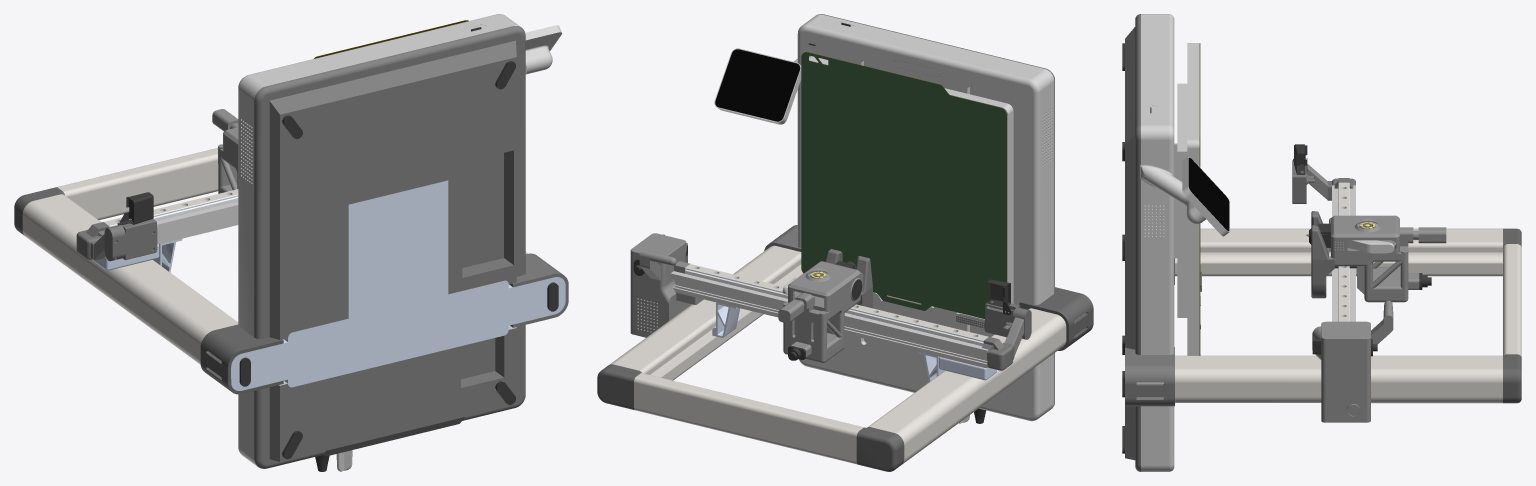
Rendered from printer3.glb.
3 renders of one model, left to right at view 1: azimuth 30°, elevation 25°; view 2: azimuth 150°, elevation 25°; view 3: azimuth 270°, elevation 25°, orthographic. The views are drawn at different scales.
Visible parts, largest first — view 1: mesh_0, mesh_5, mesh_7, mesh_6, mesh_12; view 2: mesh_0, mesh_5, mesh_6, mesh_7, mesh_12; view 3: mesh_0, mesh_5, mesh_6, mesh_7.
Part boxes in pixels (bbox=[...]): mesh_0: bbox=[76, 14, 568, 471]; mesh_5: bbox=[22, 148, 527, 364]; mesh_7: bbox=[14, 187, 283, 394]; mesh_6: bbox=[94, 109, 238, 260]; mesh_12: bbox=[104, 192, 238, 227]; mesh_0: bbox=[633, 14, 1054, 423]; mesh_5: bbox=[609, 245, 1084, 464]; mesh_6: bbox=[630, 233, 1023, 363]; mesh_7: bbox=[597, 287, 1093, 471]; mesh_12: bbox=[685, 267, 983, 345]; mesh_0: bbox=[1122, 14, 1431, 471]; mesh_5: bbox=[1136, 182, 1521, 403]; mesh_6: bbox=[1306, 164, 1446, 422]; mesh_7: bbox=[1174, 228, 1521, 403].
Bounding box in the file's own units: 0.462 × 0.442 × 0.429.
Materials: 6 (2 with a texture image).
